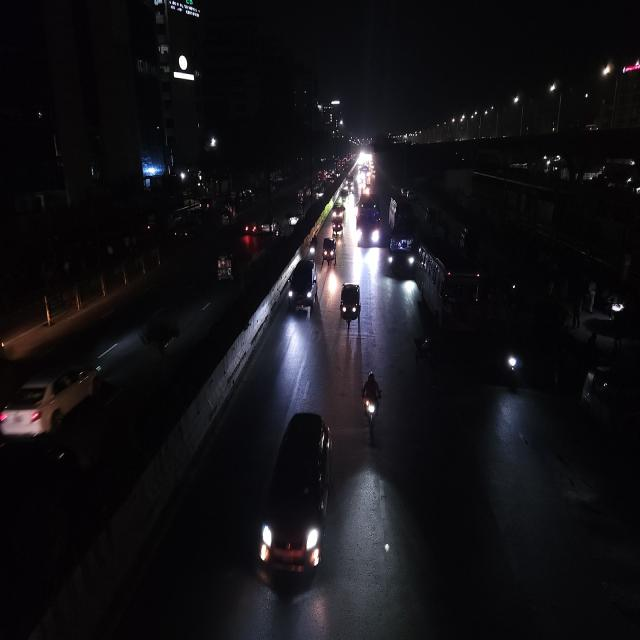bus: (414, 238, 492, 344), (386, 217, 424, 279), (354, 198, 380, 248)
car: (262, 409, 332, 607), (2, 346, 103, 462), (286, 260, 318, 316)
cng: (338, 284, 363, 329), (216, 250, 240, 289), (322, 237, 336, 264), (332, 214, 342, 238)
motorcycle: (361, 368, 382, 440), (502, 337, 527, 387), (307, 236, 317, 260)
